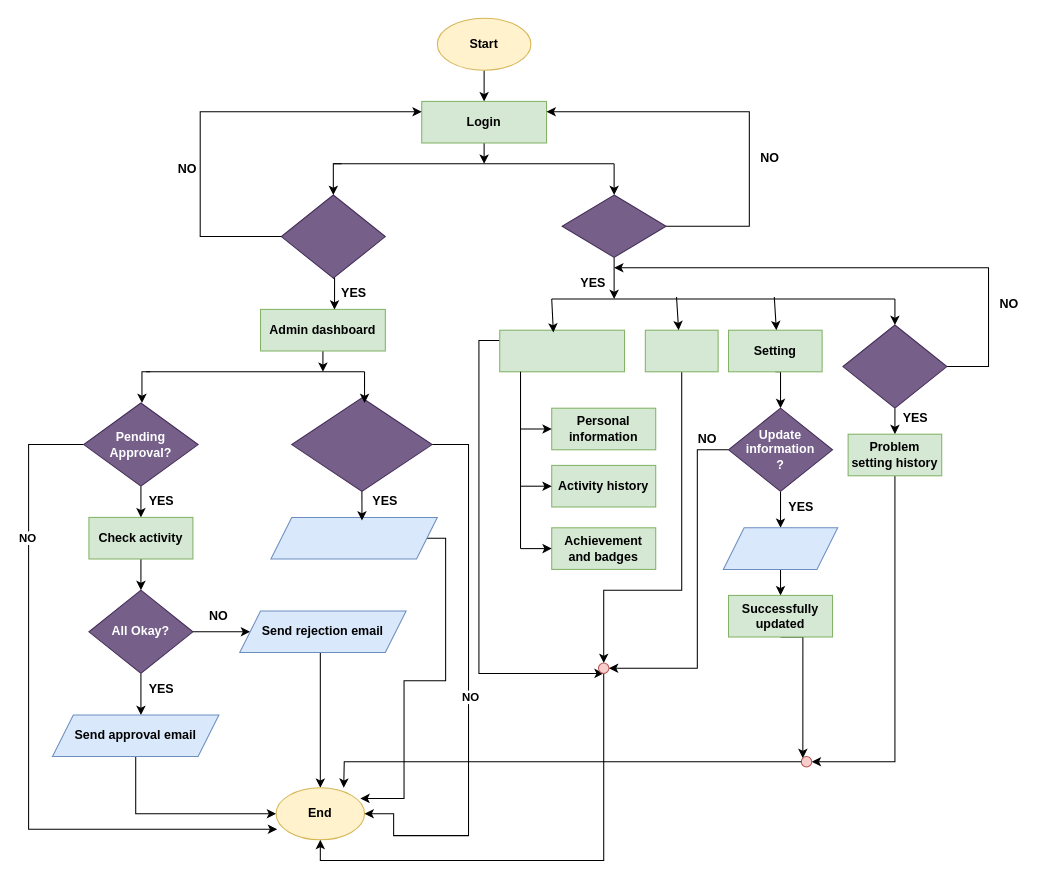
The diagram is 1058 pixels wide and 887 high, and some of its shapes have lost their labels. The shapes that lost their labels are listed below. From the top down, each one's centre as x and y in pixels, then its label:
At [332,236]: "Is Admin ?".
At [613,225]: "Is Contestant ?".
At [562,350]: "Profile overview".
At [681,350]: "Team".
At [894,366]: "Set Contest ?".
At [361,444]: "Any user violets community guideline ?".
At [353,537]: "Send warning email".
At [780,548]: "Updated information".
